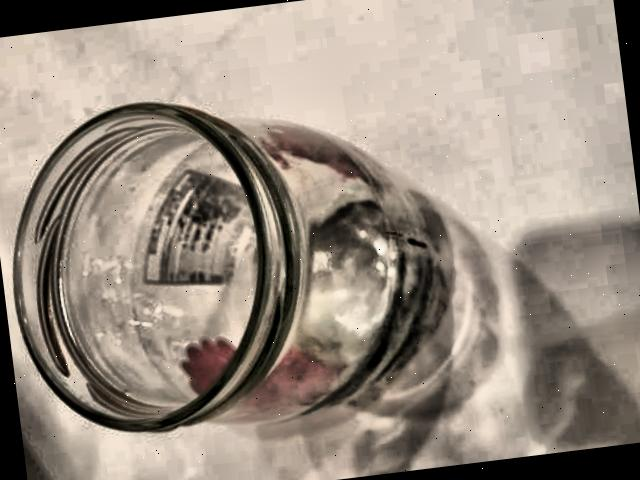Almennt: (0, 52, 496, 480)
